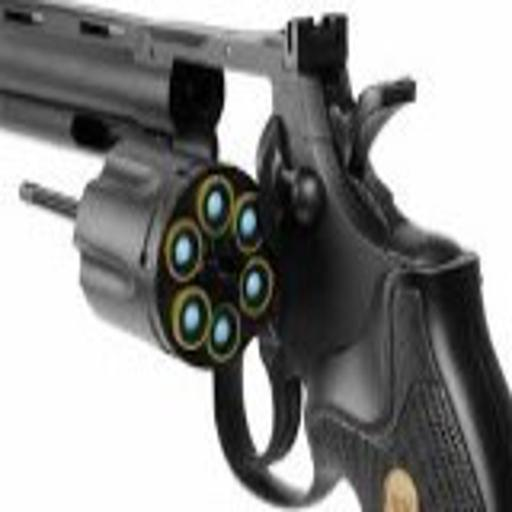Handgun: (2, 3, 507, 506)
